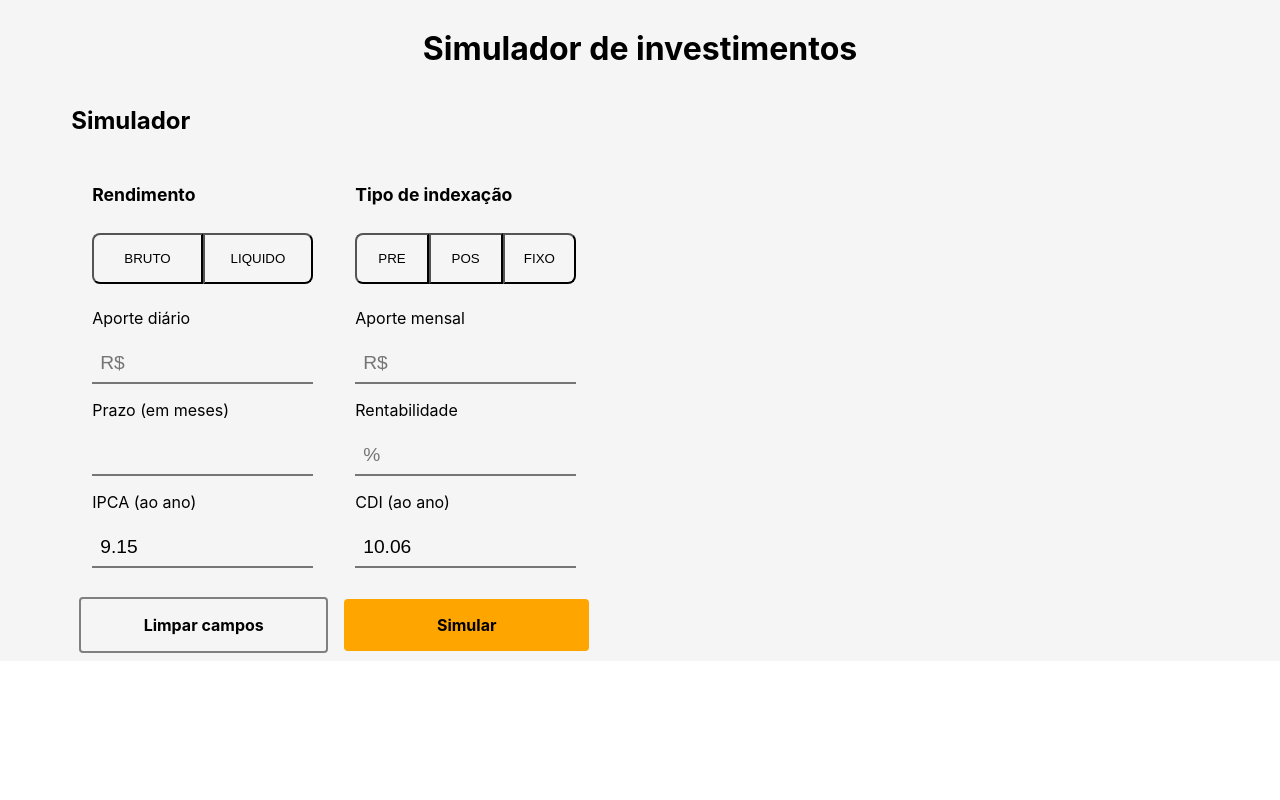
Test: quando clicar no botao simular › deve aparecer o resultado
Type "1" into the field with id "input__1--teste".
click(203, 364); type("1")  # box [92,344,313,384]
Type "1" into the field with id "input__2--teste".
click(203, 456); type("1")  # box [92,436,313,476]
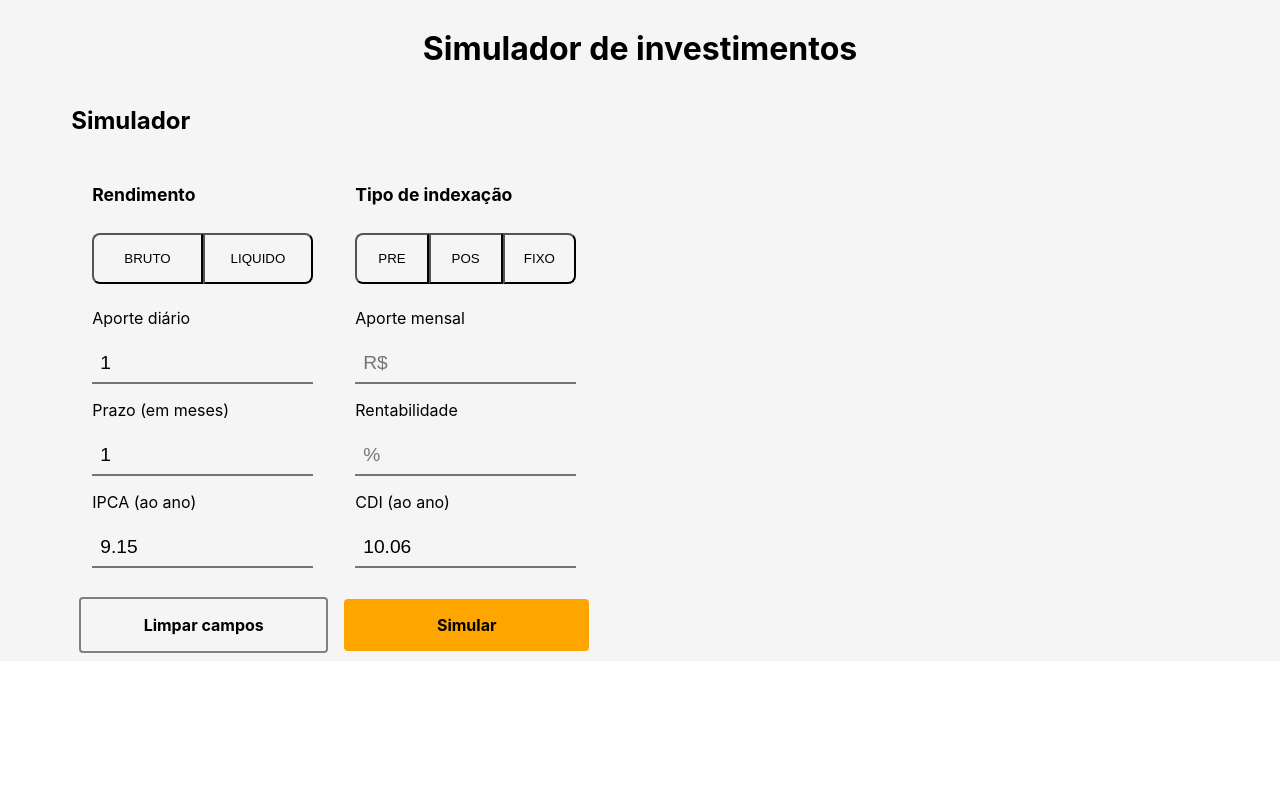
Type "1" into the field with id "input__1cdi--teste".
click(466, 364); type("1")  # box [355,344,576,384]
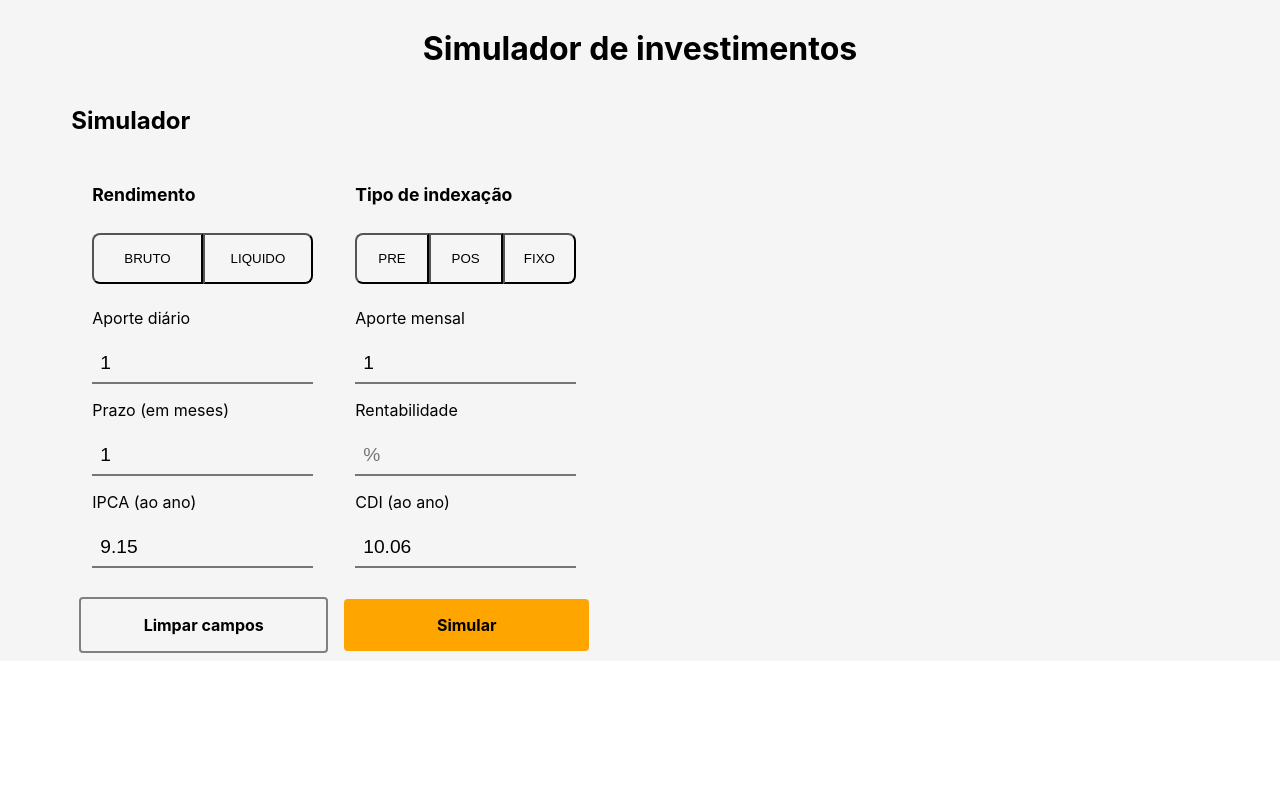
Type "1" into the field with id "input__2cdi--teste".
click(466, 456); type("1")  # box [355,436,576,476]
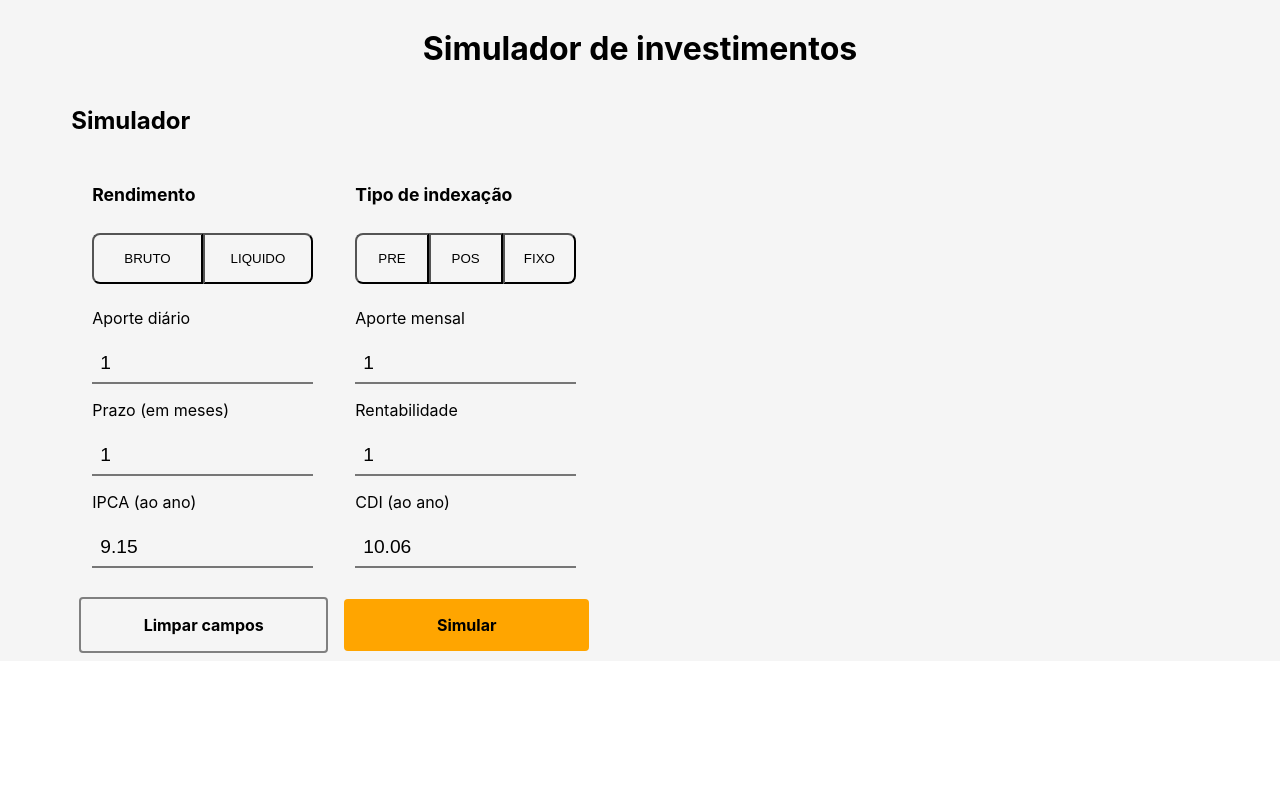
Click the button with id "botao__click--teste".
click(392, 259)  # box [355,233,429,284]
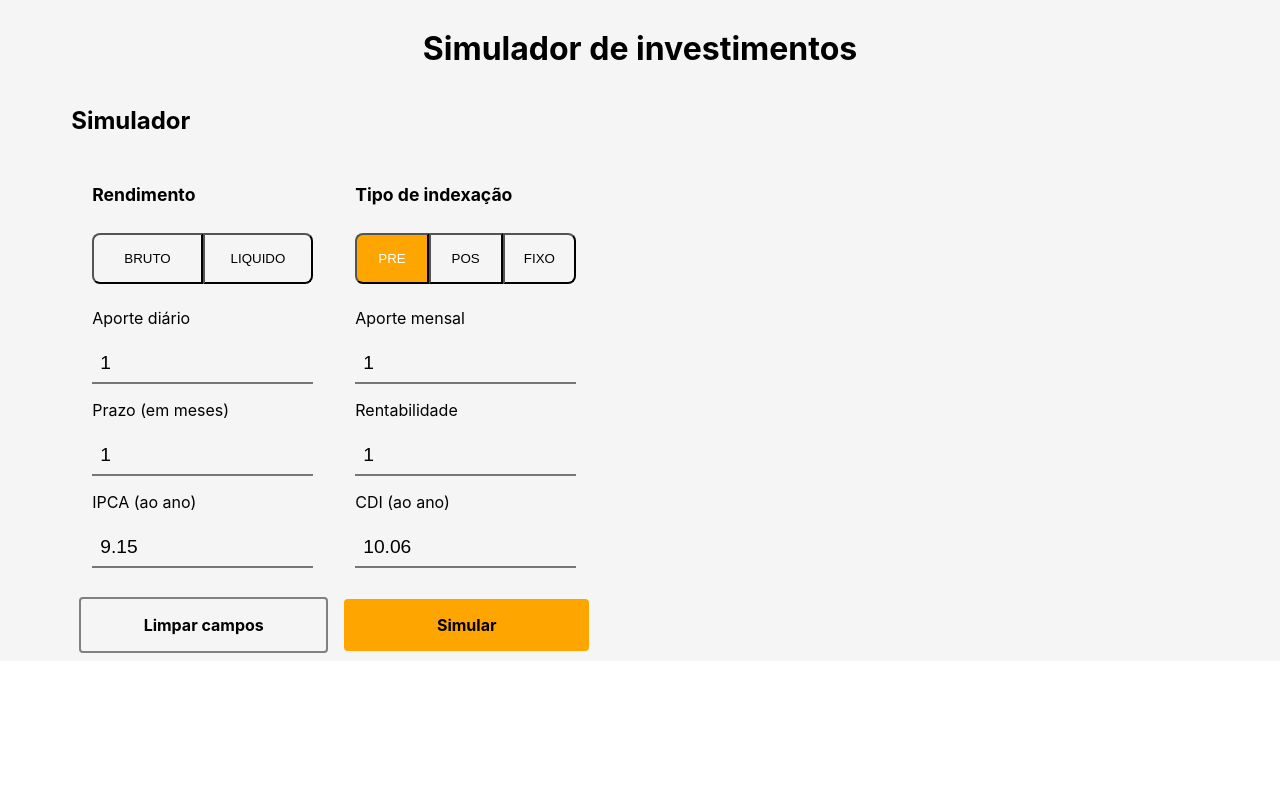
Click the button with id "botao__click--teste2".
click(148, 259)  # box [92,233,203,284]
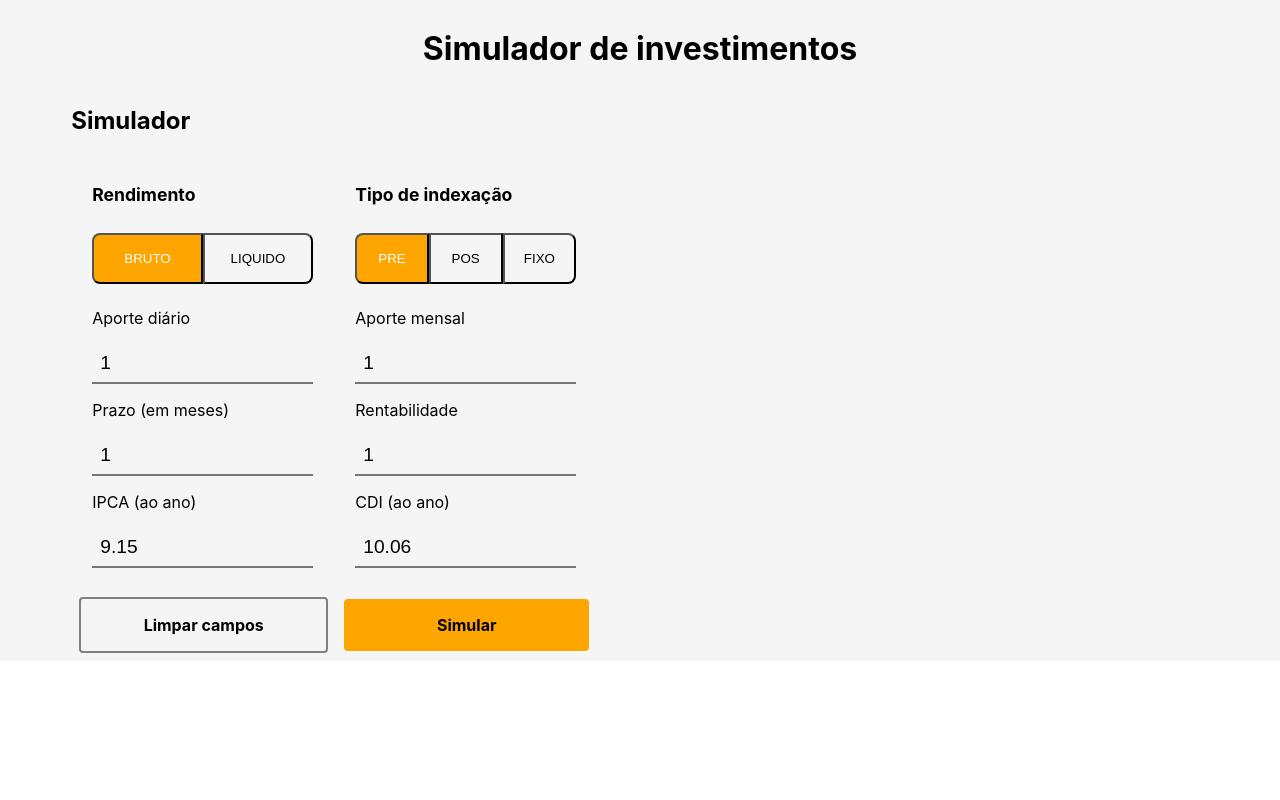
Click the text with id "botao__simular--teste".
click(467, 625)  # box [344,599,589,651]
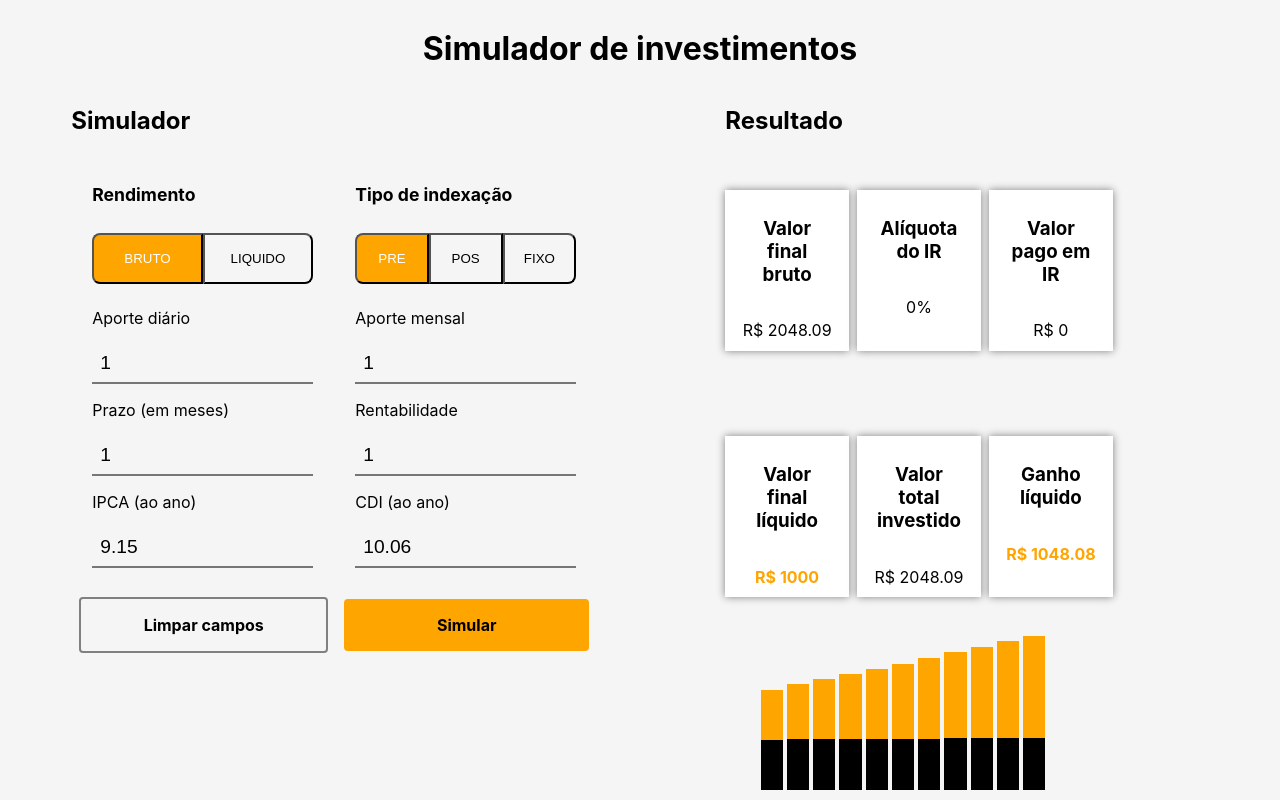
expect the element with id "resultado--teste" is shown: met, box [725,90,1081,799]
